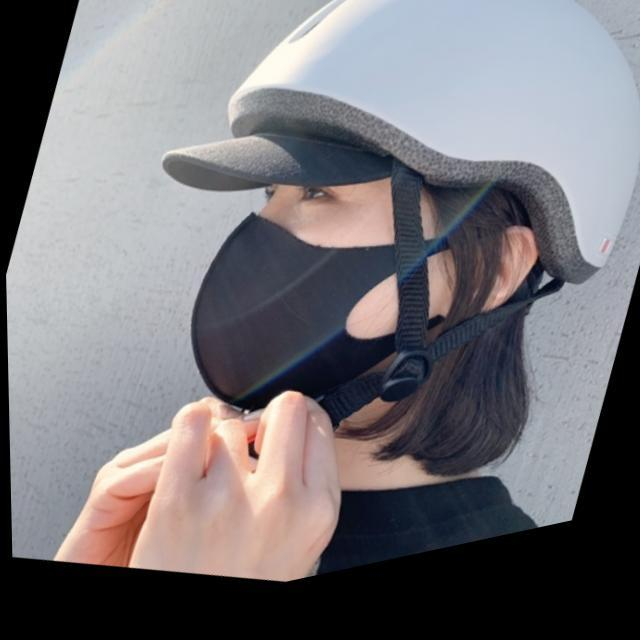Helmet: (158, 0, 639, 479)
